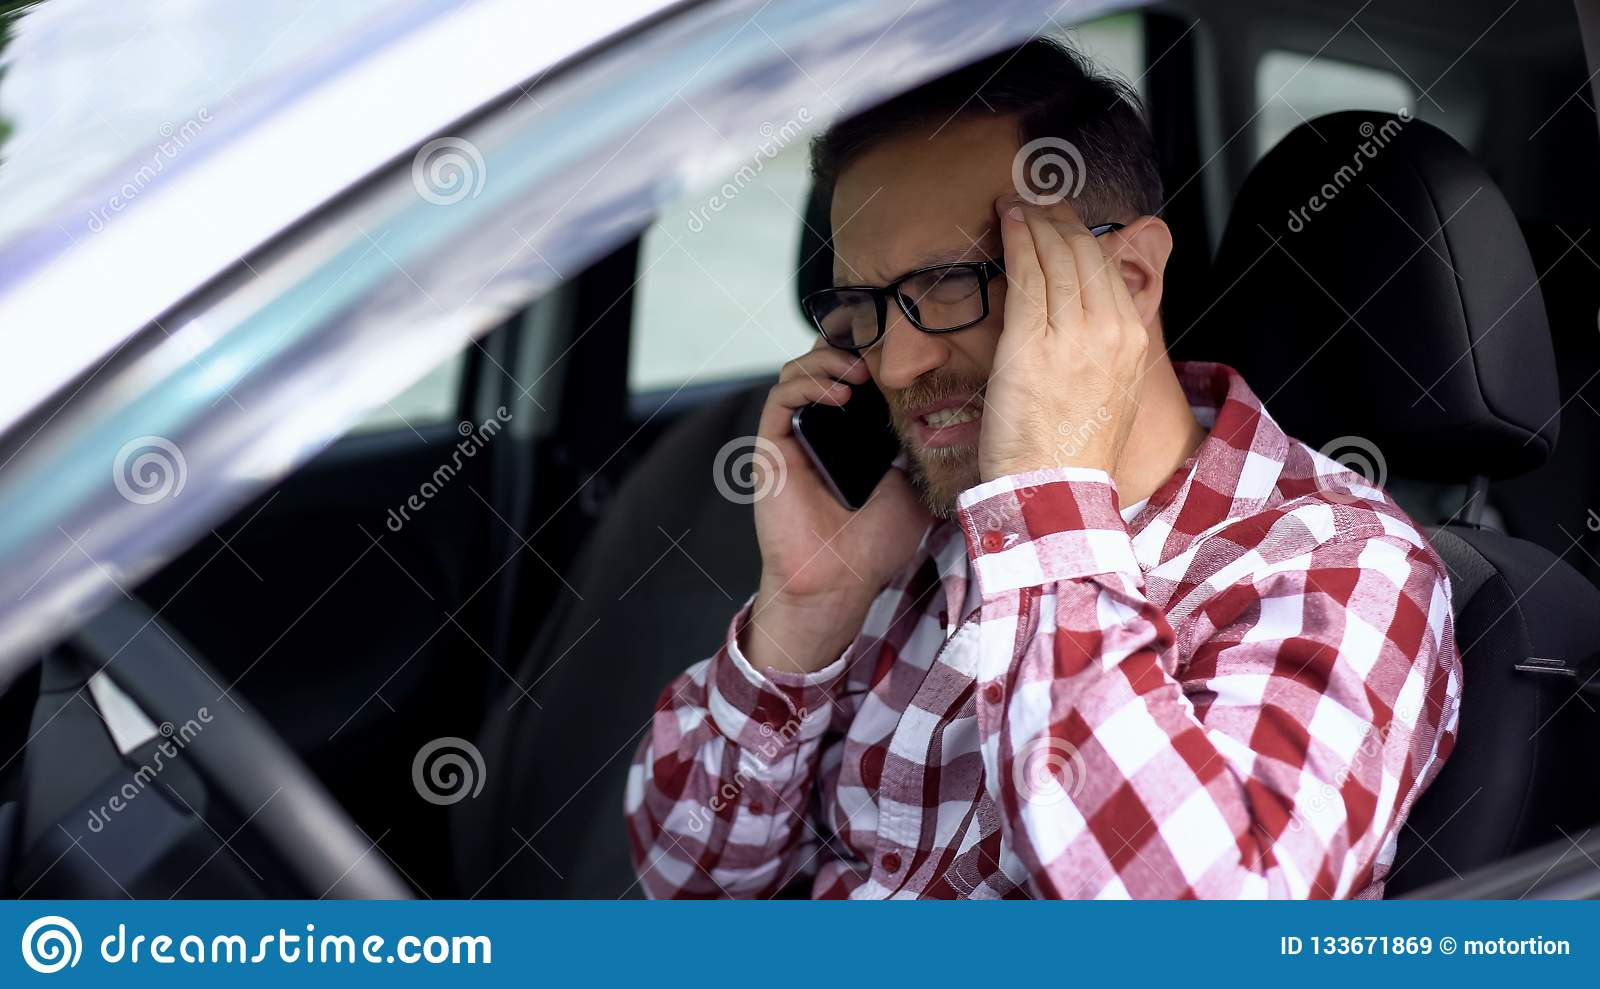phone: (791, 348, 896, 515)
talk: (749, 244, 1017, 614)
